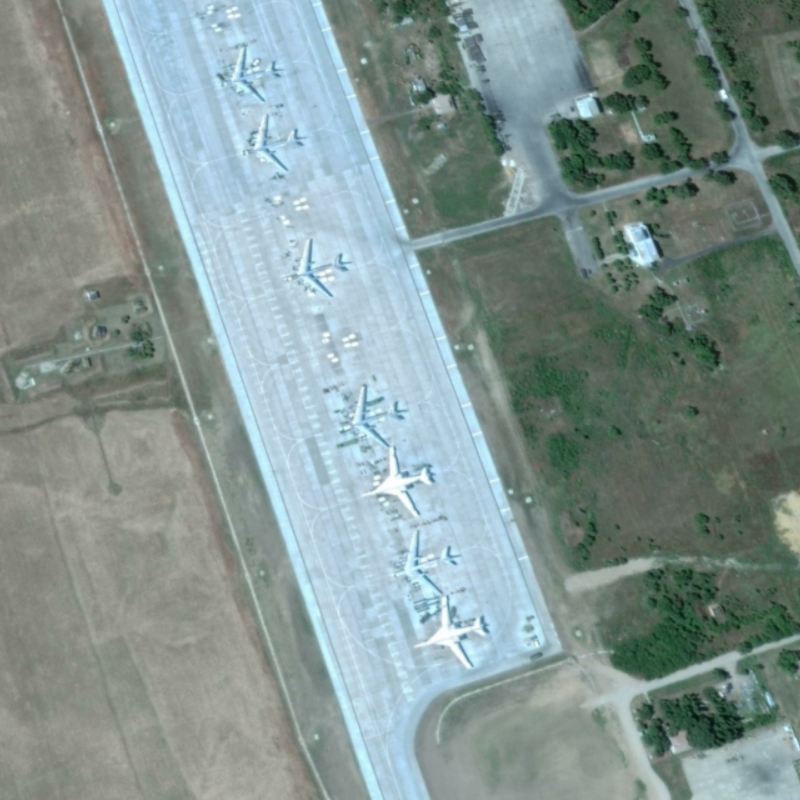A17: (383, 526, 462, 599), (332, 379, 406, 452), (276, 232, 352, 302), (212, 42, 284, 106), (234, 113, 305, 177)
A6: (351, 445, 439, 521), (406, 592, 489, 671)
